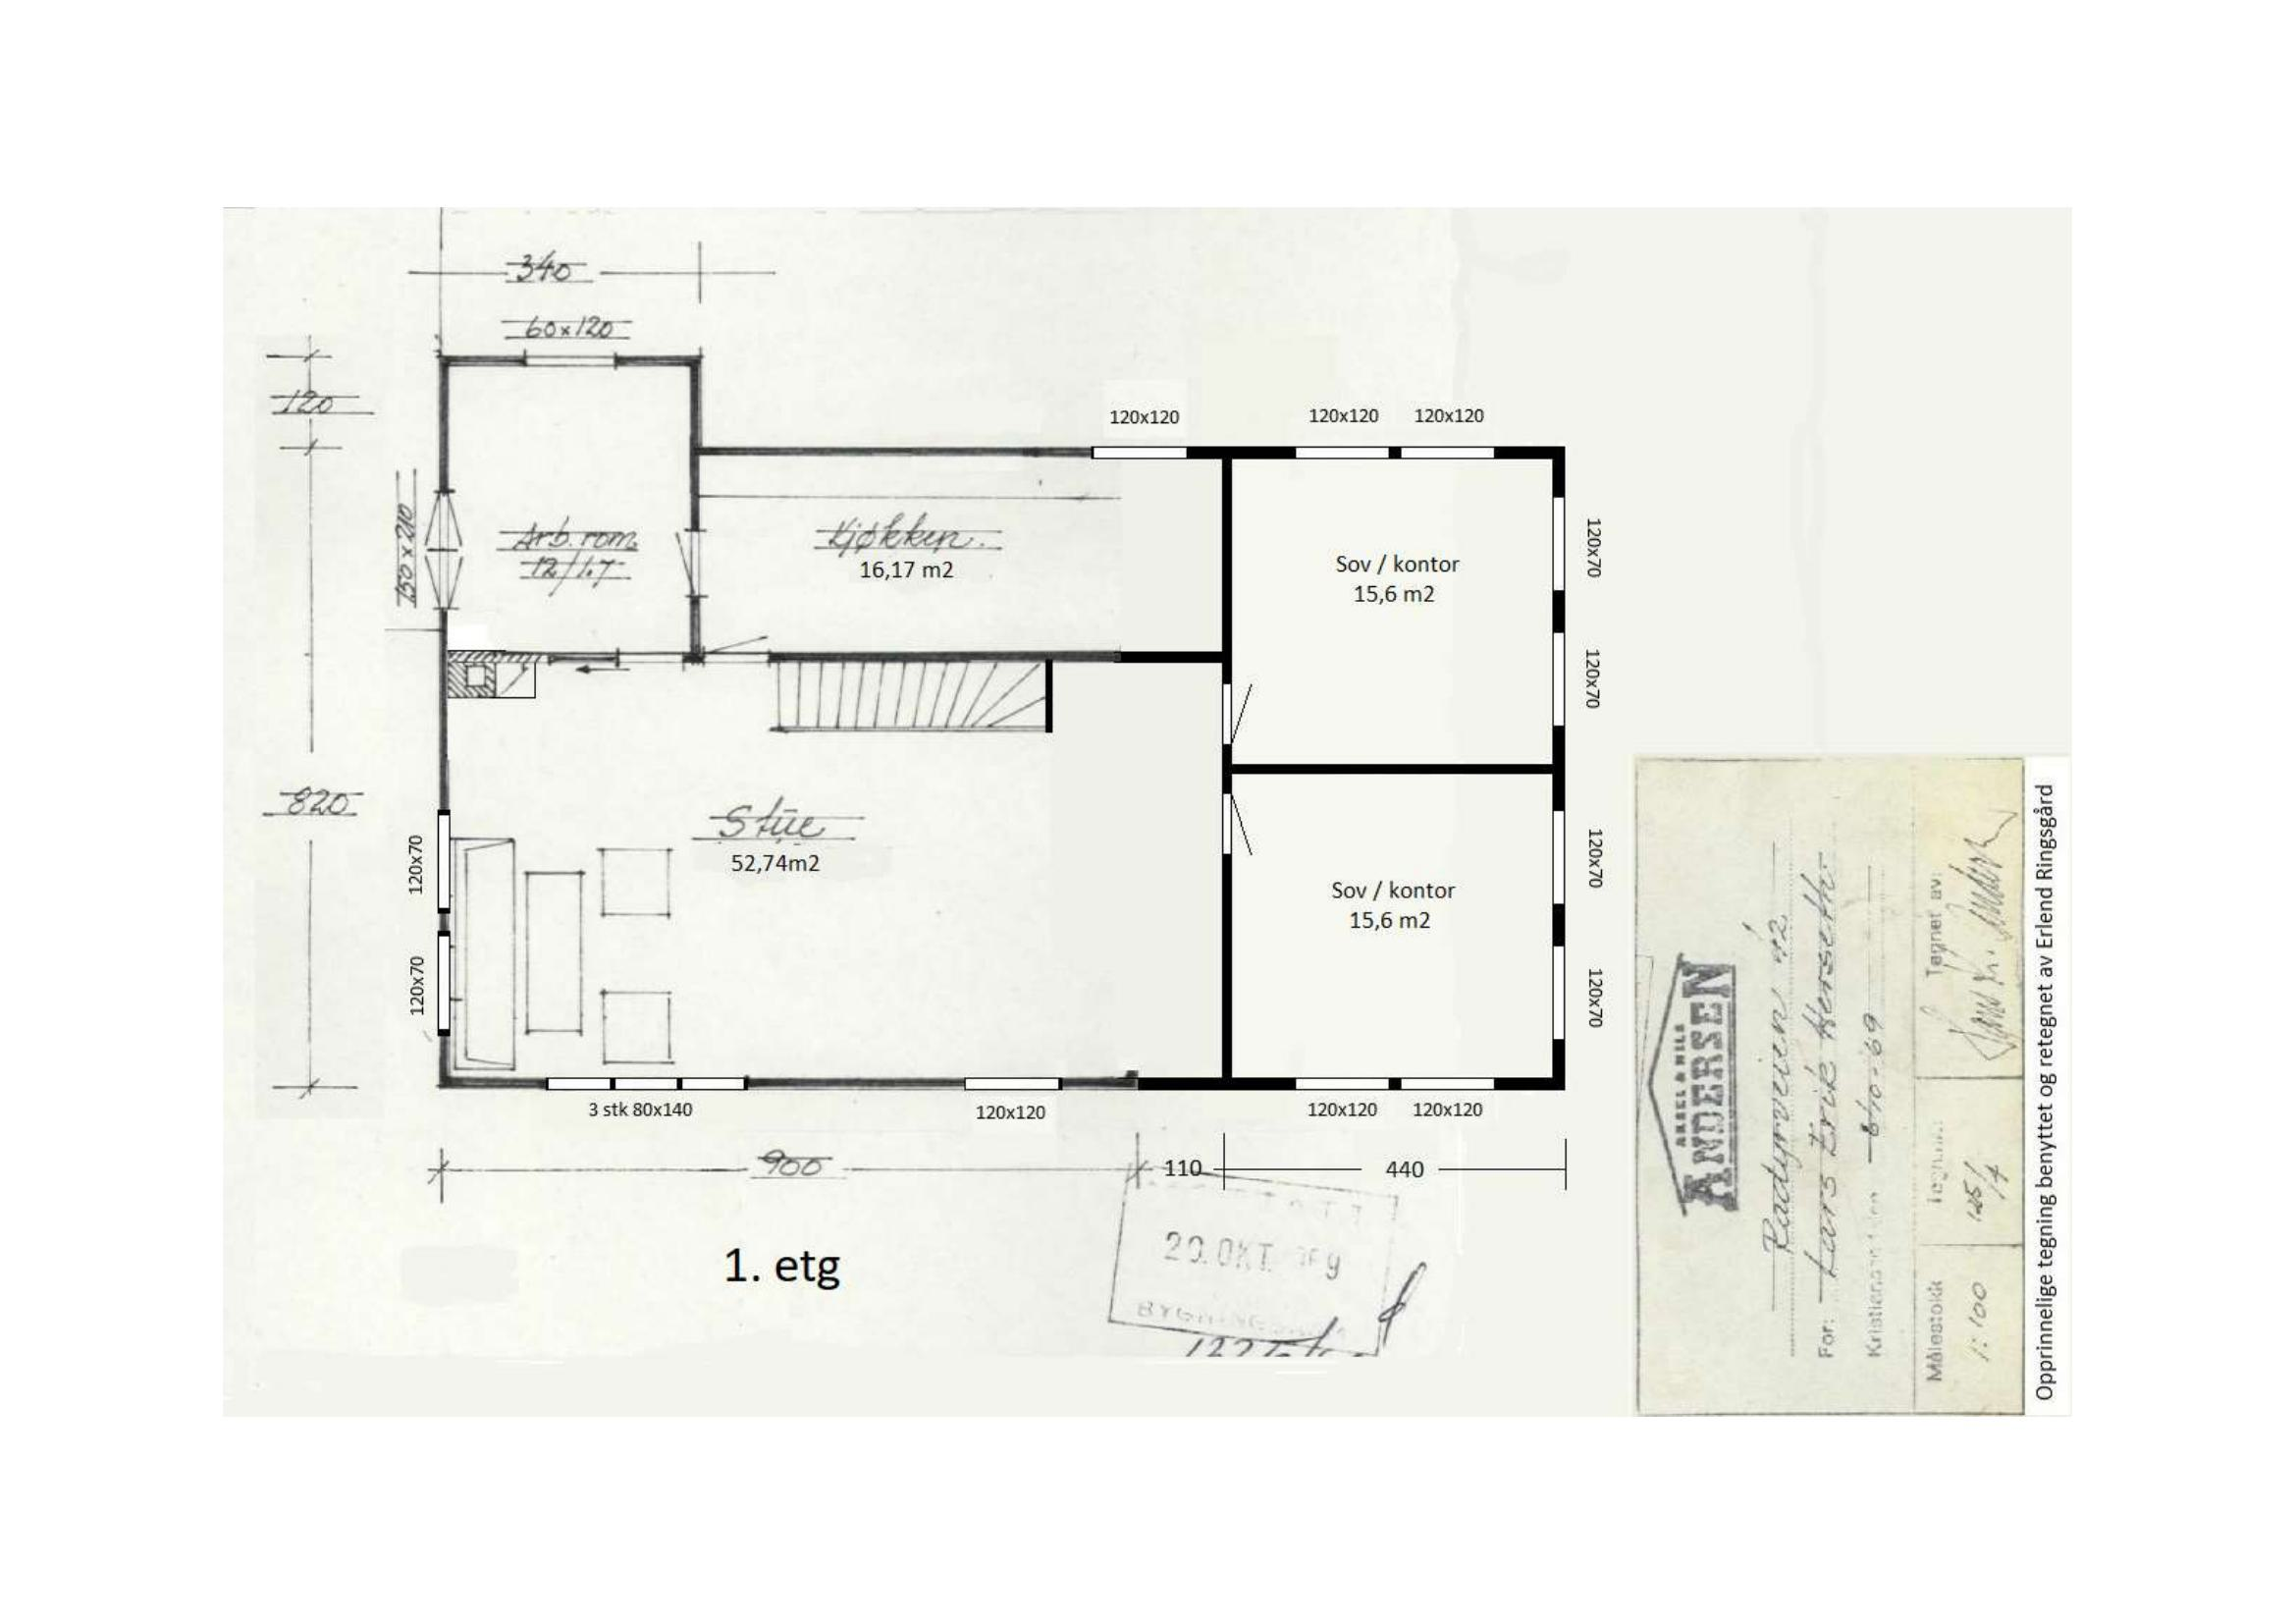plantegning: (400, 342, 1578, 1133)
